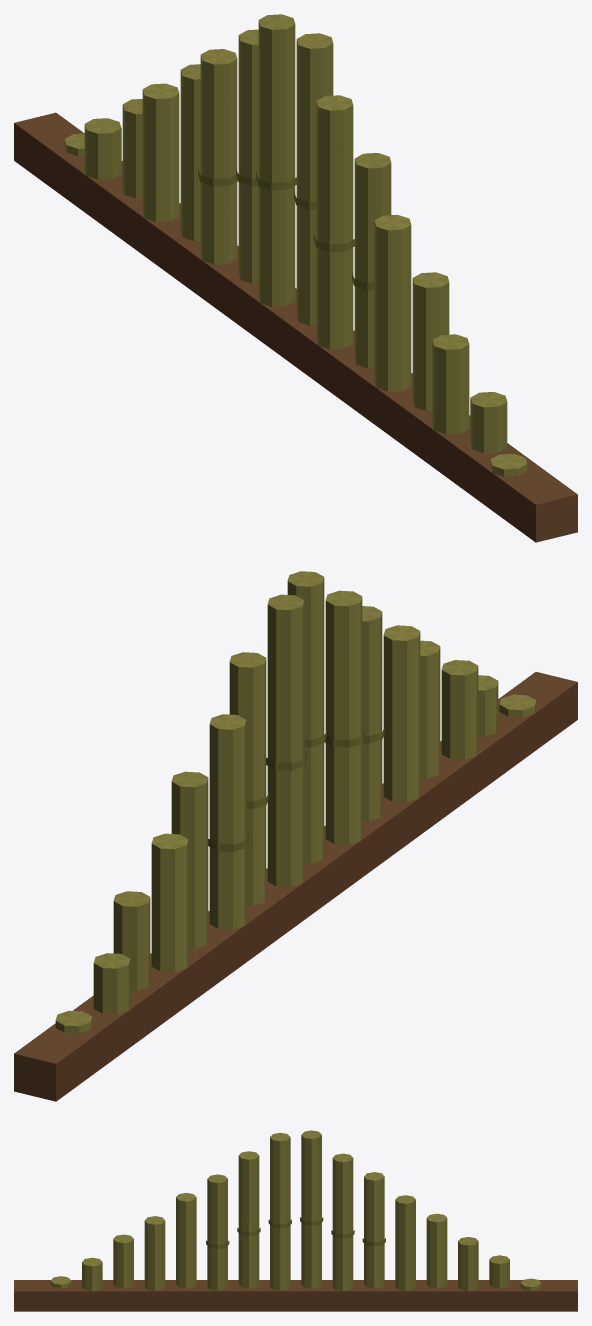
The model's file is gable.glb.
The picture shows the model from 3 angles, top to bottom: view 1: azimuth 30°, elevation 25°; view 2: azimuth 150°, elevation 25°; view 3: azimuth 270°, elevation 25°; orthographic projection. The views are drawn at different scales.
Visible parts, largest first — view 1: b_gable_solid; view 2: b_gable_solid; view 3: b_gable_solid.
Boxes of the visible parts, bbox=[...] form: b_gable_solid: bbox=[14, 14, 577, 542]; b_gable_solid: bbox=[14, 571, 577, 1101]; b_gable_solid: bbox=[14, 1130, 577, 1311].
Bounding box in the file's own units: 0.1542 × 0.9988 × 3.
